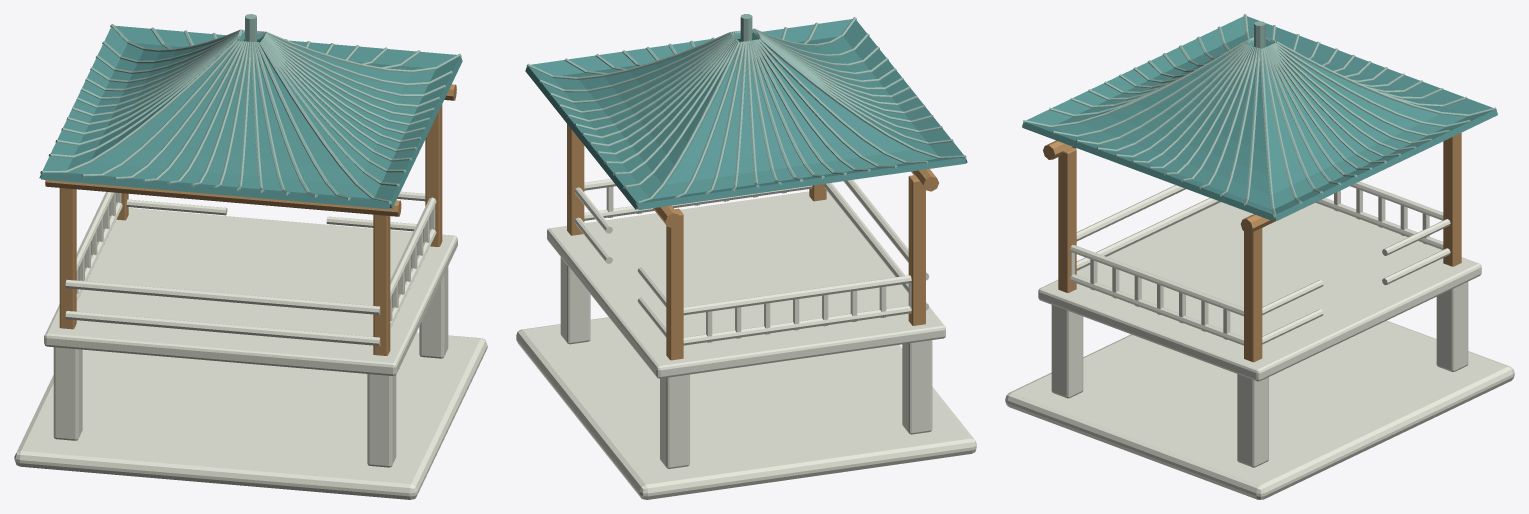
Rendered from lake-rocks-summit-pavilion.glb.
3 views of the same model, side by side, from view 1: azimuth 30°, elevation 25°; view 2: azimuth 150°, elevation 25°; view 3: azimuth 270°, elevation 25° (orthographic). The views are drawn at different scales.
Visible parts, largest first — view 1: Map summit-pavilion; view 2: Map summit-pavilion; view 3: Map summit-pavilion.
Part boxes in pixels (bbox=[...]): Map summit-pavilion: bbox=[14, 14, 487, 499]; Map summit-pavilion: bbox=[516, 14, 976, 499]; Map summit-pavilion: bbox=[1005, 14, 1514, 499].
Bounding box in the file's own units: 9.53 × 7.6 × 9.46.
